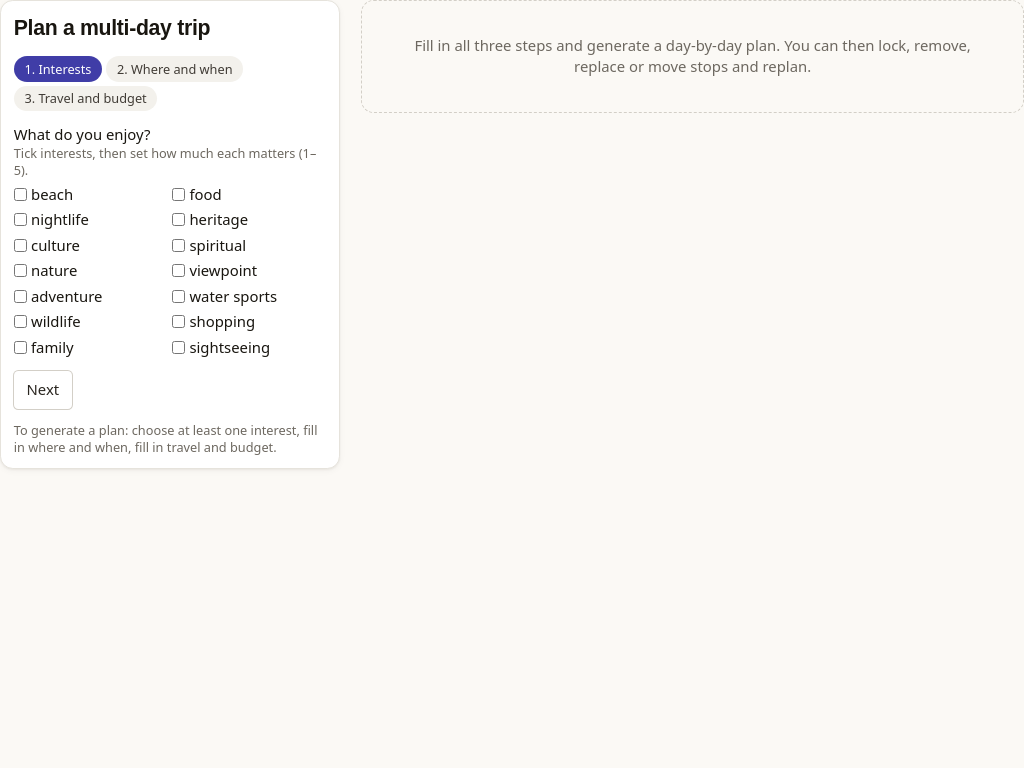
generate appears only after all three steps are filled in
Check: the button "generate plan" is not shown
Check: the text "choose at least one interest" is shown, box [14,421,318,456]
Click the checkbox labelled "beach": (20, 194) [14,188,27,201]
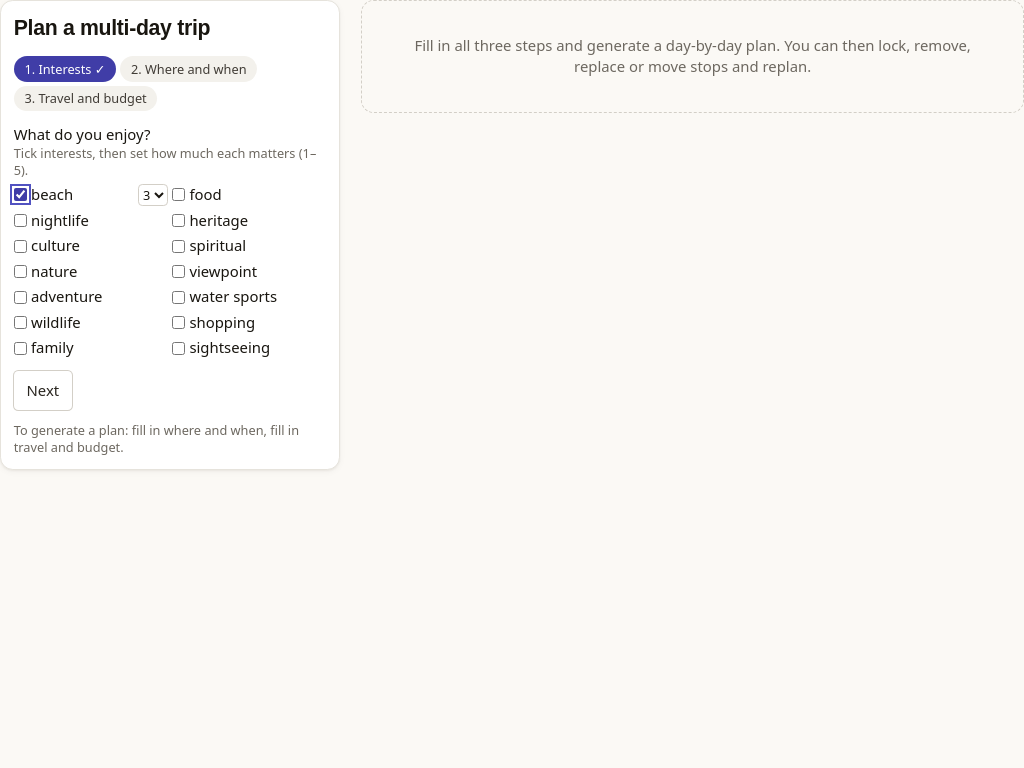
Check: the button "generate plan" is not shown
Click the button "Next": (43, 391) [14,371,72,410]
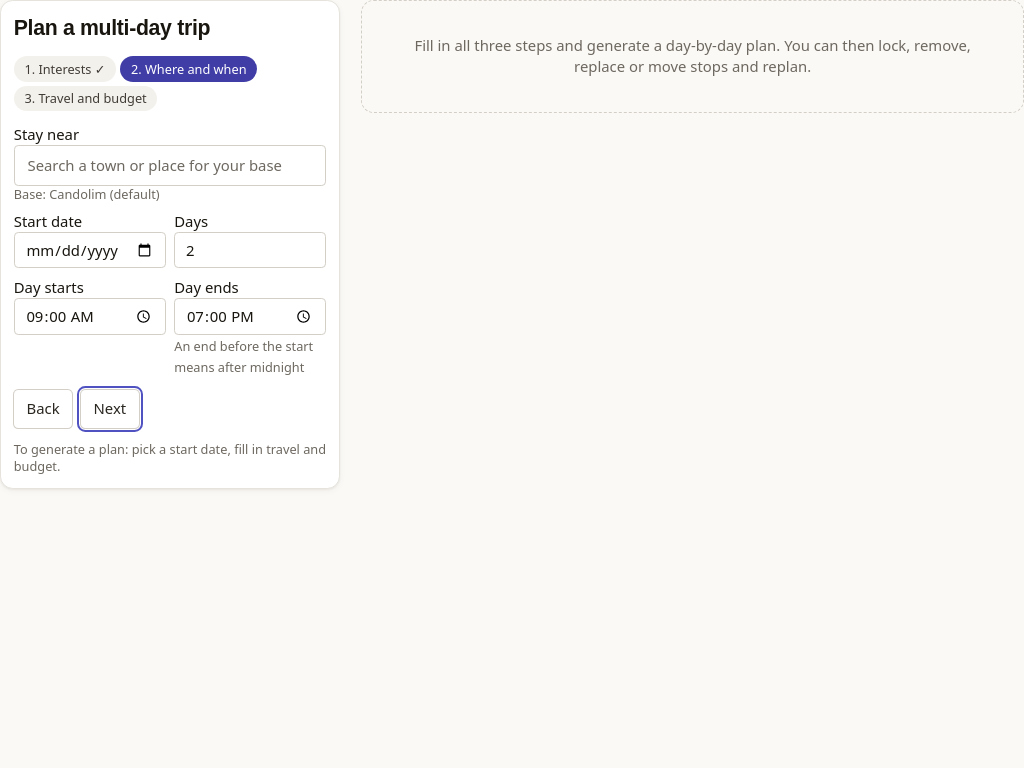
Check: the text "pick a start date" is shown, box [14,440,326,475]
In the date field labelled "Start date": (90, 250) [14,232,166,268], type "2026-12-14"
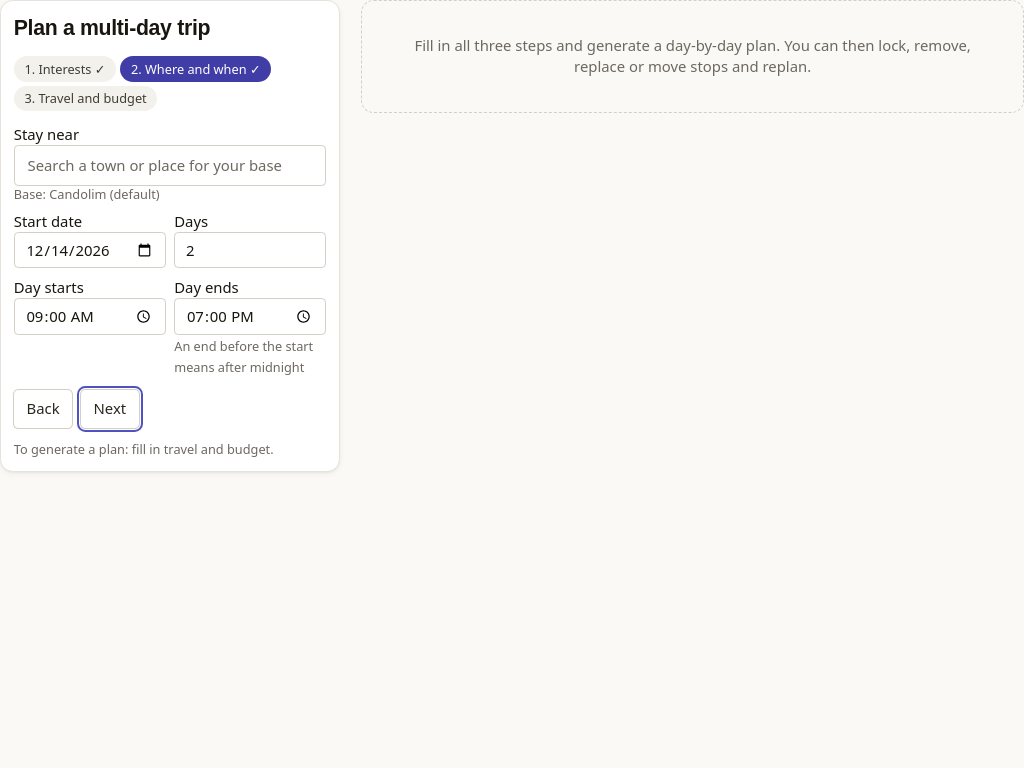
Check: the button "generate plan" is not shown
Click the button "Next": (110, 409) [81,390,139,428]
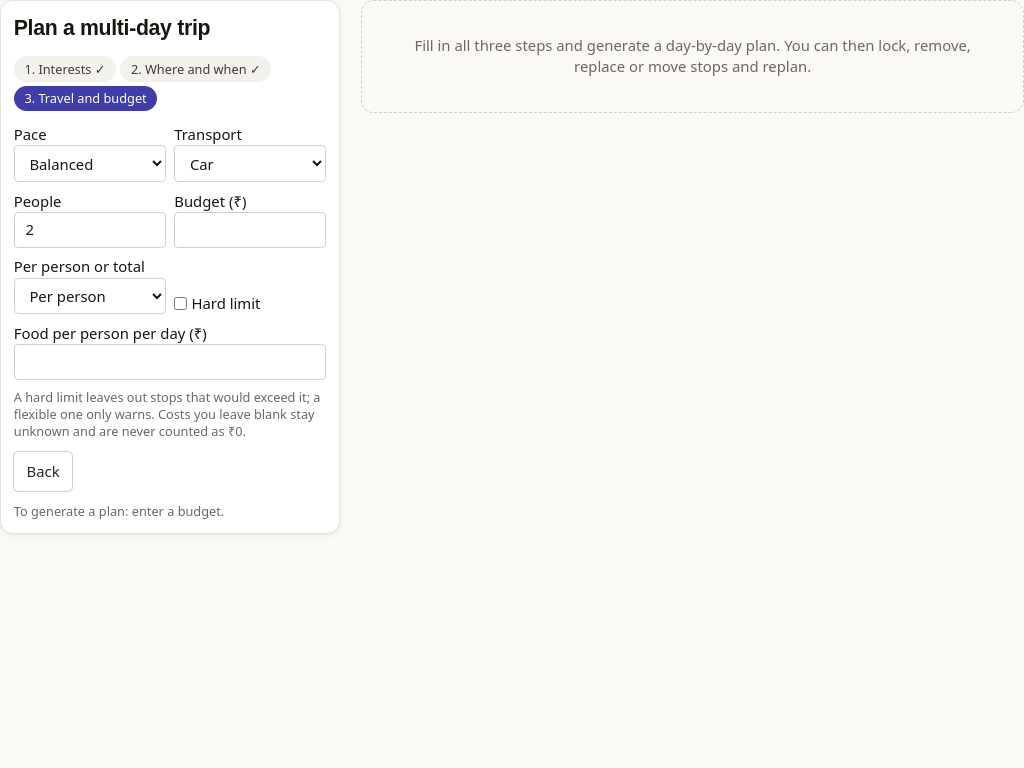
Check: the text "To generate a plan: enter a budget." is shown, box [14,502,224,520]
In the number field labelled "Budget (₹)": (250, 230) [174,212,326,248], type "5000"
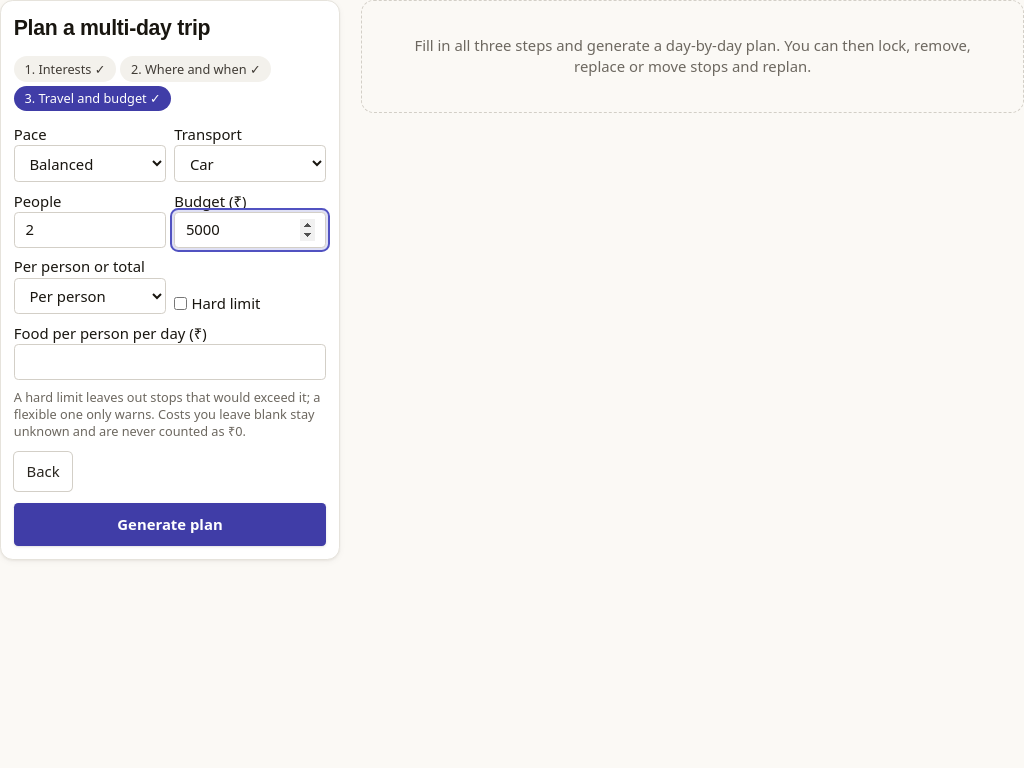
Check: the button "Generate plan" is shown, box [14,503,326,546]
Check: the button "3. Travel and budget ✓" is shown, box [14,86,171,112]
